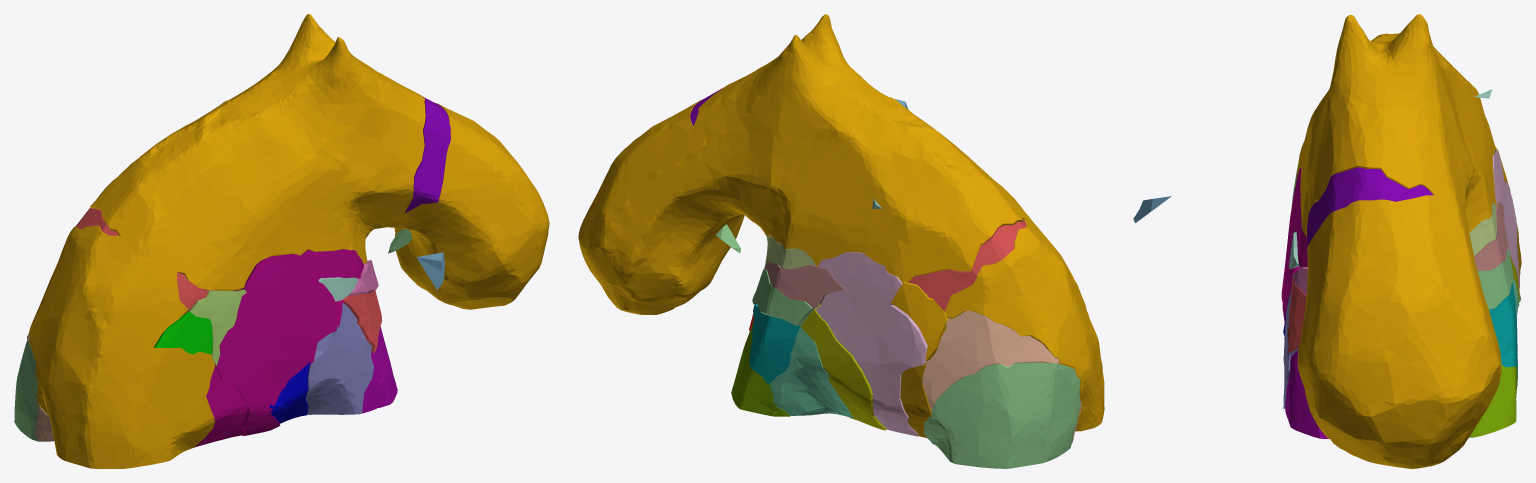
Rendered from fractured_53_34pcs.glb.
3 views of the same model, side by side, from view 1: azimuth 30°, elevation 25°; view 2: azimuth 150°, elevation 25°; view 3: azimuth 270°, elevation 25° (orthographic). The views are drawn at different scales.
Visible parts, largest first — view 1: piece_0.obj, piece_15.obj, piece_26.obj, piece_16.obj, piece_19.obj, piece_25.obj, piece_3.obj, piece_8.obj, piece_12.obj, piece_10.obj, piece_30.obj, piece_1.obj (+3 smaller); view 2: piece_0.obj, piece_3.obj, piece_6.obj, piece_7.obj, piece_22.obj, piece_11.obj, piece_1.obj, piece_13.obj, piece_28.obj, piece_29.obj, piece_14.obj, piece_27.obj (+2 smaller); view 3: piece_0.obj, piece_16.obj, piece_14.obj, piece_12.obj, piece_13.obj, piece_15.obj, piece_6.obj, piece_27.obj, piece_28.obj, piece_30.obj, piece_5.obj, piece_26.obj.
Part boxes in pixels (x1,y1,x2,y2): piece_0.obj: [29, 14, 549, 468]; piece_15.obj: [214, 249, 363, 435]; piece_26.obj: [306, 302, 373, 414]; piece_16.obj: [405, 96, 450, 213]; piece_19.obj: [195, 366, 247, 447]; piece_25.obj: [185, 289, 246, 366]; piece_3.obj: [14, 340, 42, 442]; piece_8.obj: [154, 311, 212, 354]; piece_12.obj: [362, 326, 397, 413]; piece_10.obj: [269, 362, 310, 423]; piece_30.obj: [341, 291, 381, 353]; piece_1.obj: [75, 208, 213, 313]; piece_0.obj: [578, 14, 1104, 431]; piece_3.obj: [924, 362, 1080, 468]; piece_6.obj: [816, 252, 928, 436]; piece_7.obj: [922, 310, 1081, 442]; piece_22.obj: [770, 327, 853, 417]; piece_11.obj: [801, 301, 886, 430]; piece_1.obj: [908, 219, 1026, 311]; piece_13.obj: [749, 304, 800, 384]; piece_28.obj: [764, 260, 844, 308]; piece_29.obj: [891, 282, 948, 361]; piece_14.obj: [731, 319, 790, 416]; piece_27.obj: [752, 269, 820, 326]; piece_0.obj: [1296, 14, 1501, 468]; piece_16.obj: [1307, 167, 1433, 247]; piece_14.obj: [1469, 364, 1517, 437]; piece_12.obj: [1285, 350, 1328, 438]; piece_13.obj: [1489, 282, 1517, 368]; piece_15.obj: [1283, 167, 1307, 327]; piece_6.obj: [1492, 149, 1519, 292]; piece_27.obj: [1477, 249, 1513, 309]; piece_28.obj: [1474, 200, 1508, 270]; piece_30.obj: [1286, 274, 1306, 353]; piece_5.obj: [1469, 202, 1496, 256]; piece_26.obj: [1283, 288, 1298, 408].
Size of the model in its own units: 0.9994 by 0.6835 by 0.5988.
